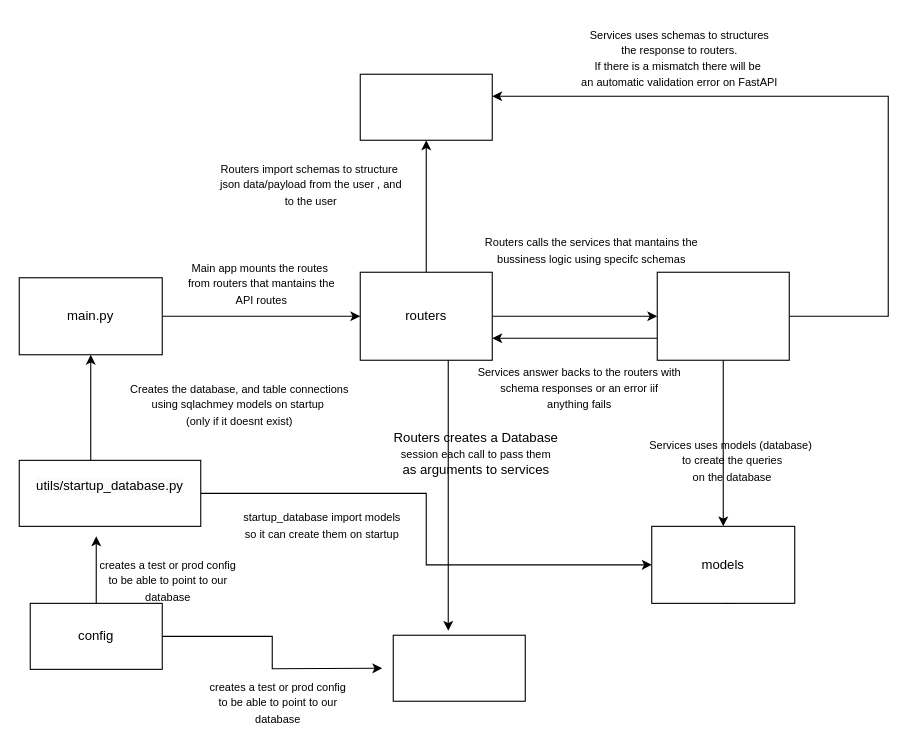
The diagram is 916 pixels wide and 754 high, and some of its shapes have lost their labels. The shapes that lost their labels are listed below. From the top down, each one's centre as x and y in pixels, then its label:
At point 425,106: "schemas".
At point 722,315: "services".
At point 458,667: "Database".
